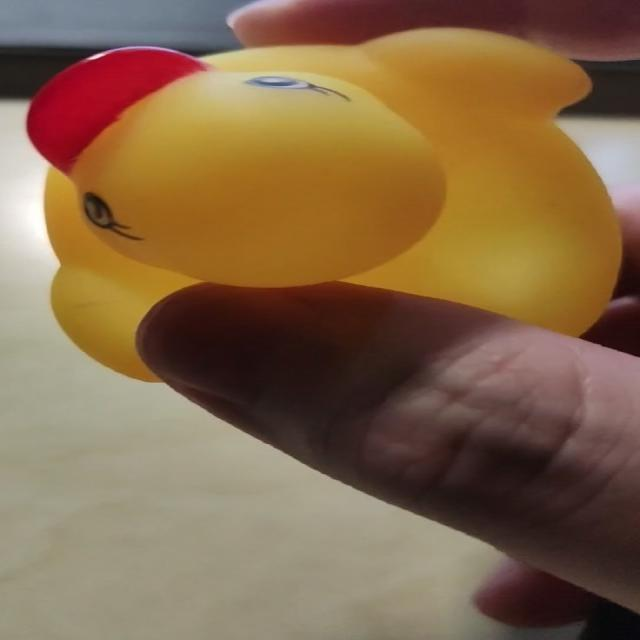rubber-duck: (27, 28, 619, 378)
